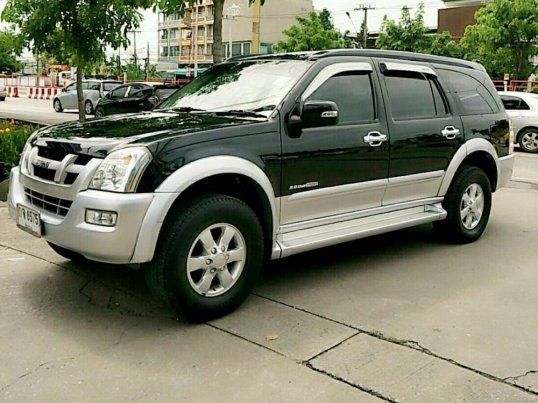pickup: (7, 48, 514, 325)
